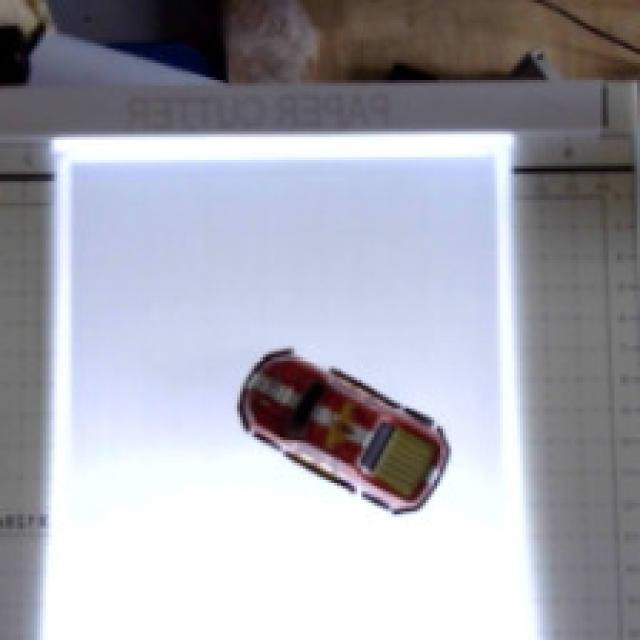Red Car: (238, 318, 492, 544)
